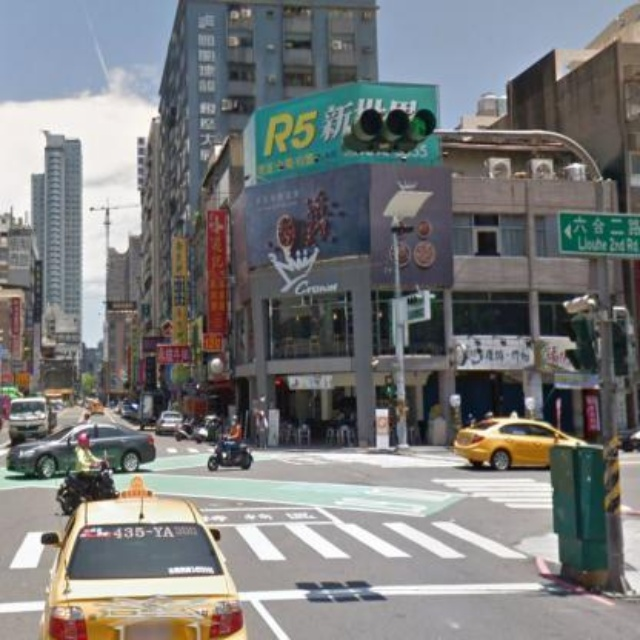Đèn xanh: (354, 107, 434, 142)
